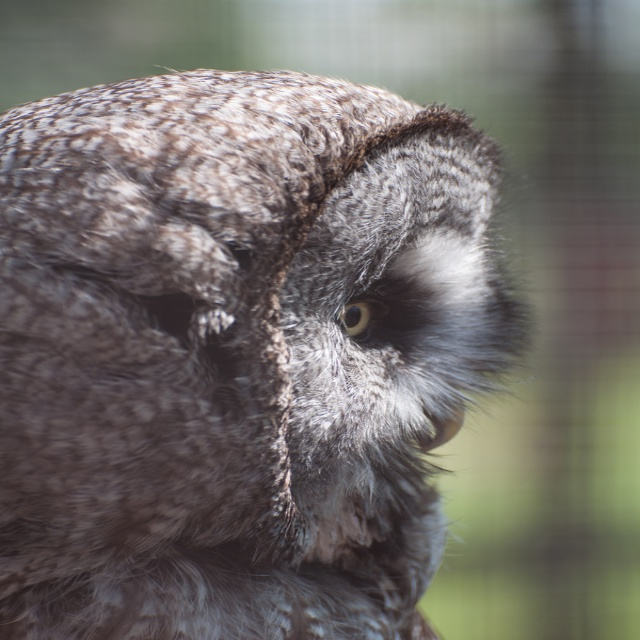Owl: (0, 70, 524, 640)
